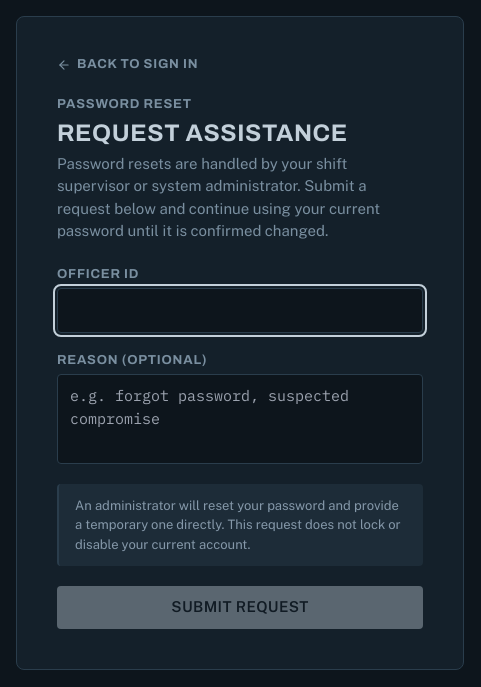
Test: ForgotPasswordScreen › submits officer_id + reason and shows the confirmation state with the real backend reference code
Type "OFF-2291" into the field labelled "Officer ID" at (240, 310), box left=57, top=288, right=423, bottom=333
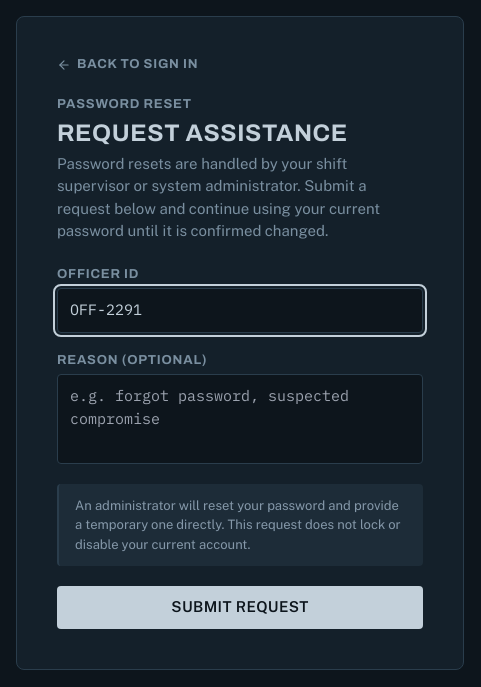
Type "forgot password" into the text box labelled "Reason (optional)" at (240, 419), box left=57, top=374, right=423, bottom=464
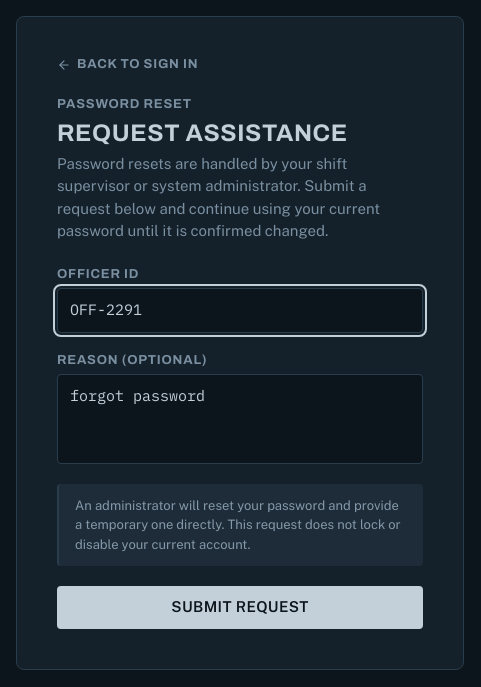
Click the button "Submit request" at (240, 607), box left=57, top=586, right=423, bottom=629
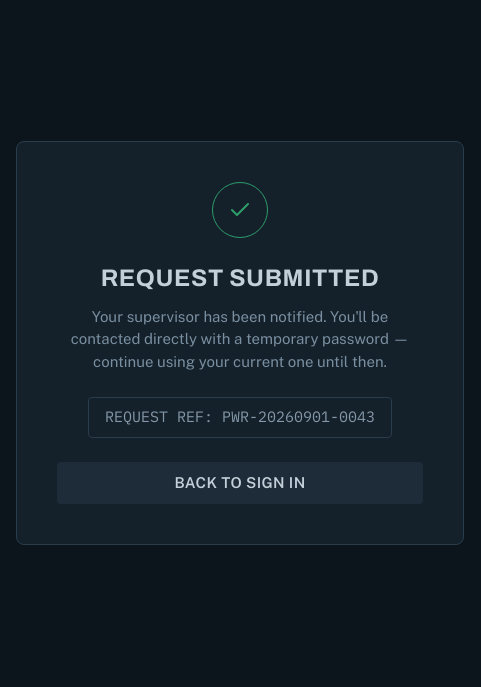
Now the heading "Request submitted" is shown, box left=101, top=265, right=379, bottom=291
Now the text "REQUEST REF: PWR-20260901-0043" is shown, box left=88, top=397, right=392, bottom=438
